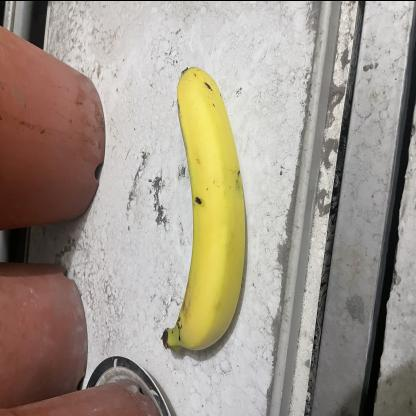banana: (158, 65, 246, 355)
